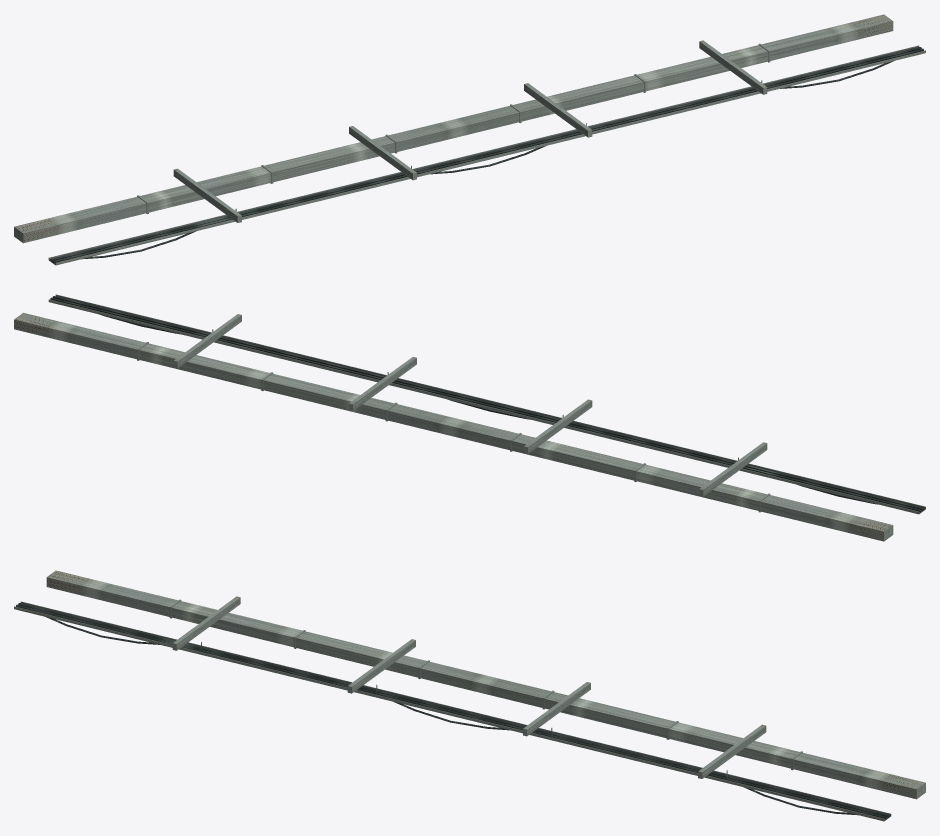
Rendered from ceiling_main_corridor.glb.
3 views of the same model, one above another, from view 1: azimuth 30°, elevation 25°; view 2: azimuth 150°, elevation 25°; view 3: azimuth 330°, elevation 25° (orthographic).
Visible parts, largest first — view 1: Ceiling; view 2: Ceiling; view 3: Ceiling.
Boxes of the visible parts, left/top/right/bottom form: Ceiling: left=14, top=14, right=925, bottom=265; Ceiling: left=14, top=294, right=925, bottom=541; Ceiling: left=14, top=570, right=925, bottom=821.
Size of the model in its own units: 29.8 by 0.7785 by 3.8.
Materials: 1 (1 with a texture image).
